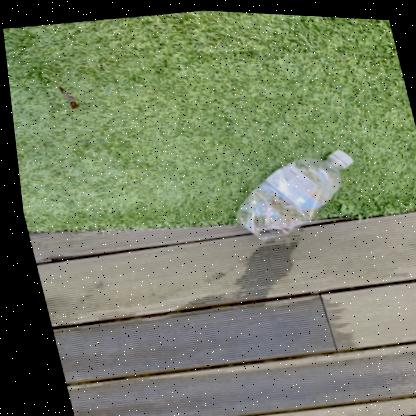Plastic: (231, 144, 349, 236)
